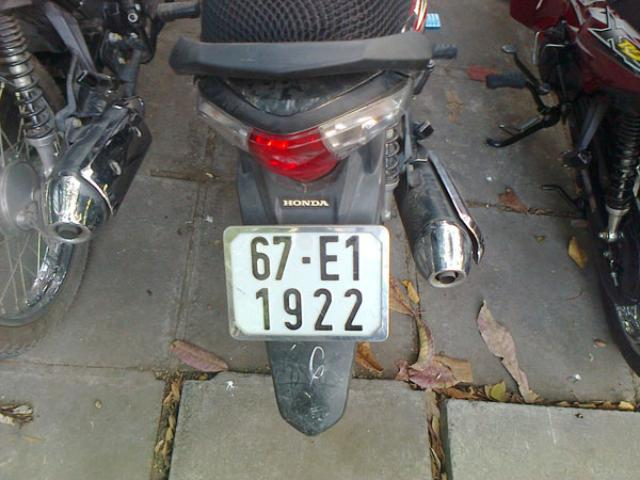plate: (234, 232, 388, 340)
